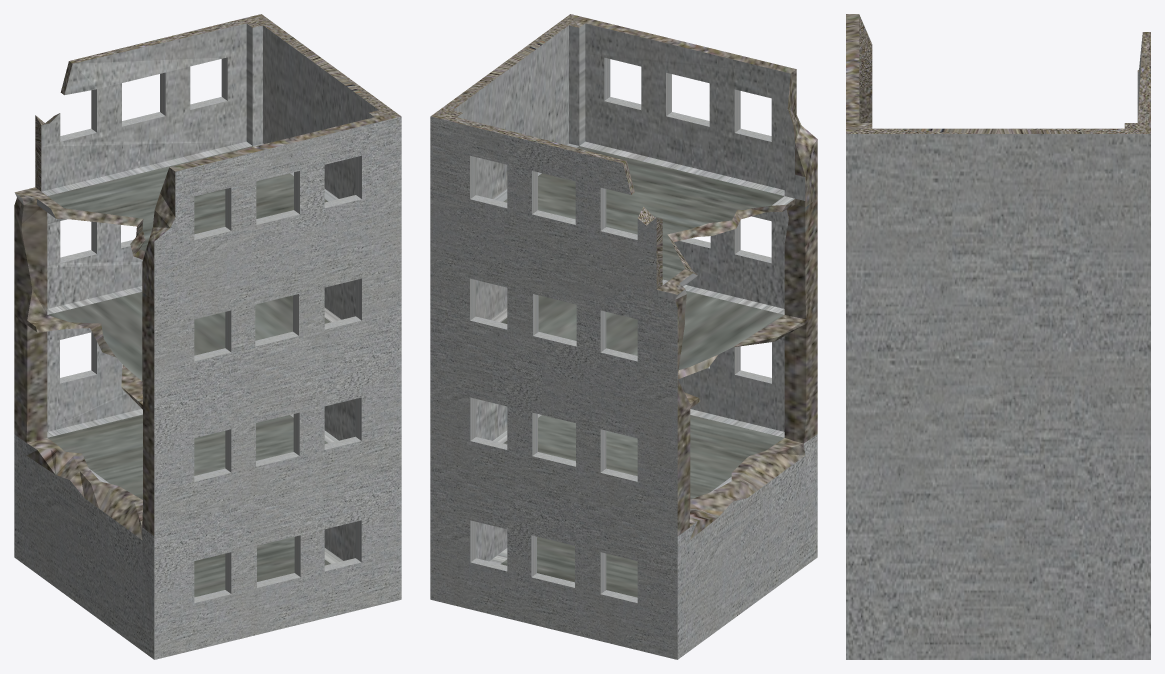
File: building_2.fbx
3 views of the same model, side by side, from view 1: azimuth 30°, elevation 25°; view 2: azimuth 150°, elevation 25°; view 3: azimuth 270°, elevation 25° (orthographic). The views are drawn at different scales.
Parts seen in each view (by area): view 1: Box004; view 2: Box004; view 3: Box004.
Part boxes in pixels (x1,y1,x2,y2): Box004: (14, 14, 401, 659); Box004: (430, 14, 817, 659); Box004: (846, 14, 1150, 659).
Size of the model in its own units: 59.13 by 110 by 58.04.
